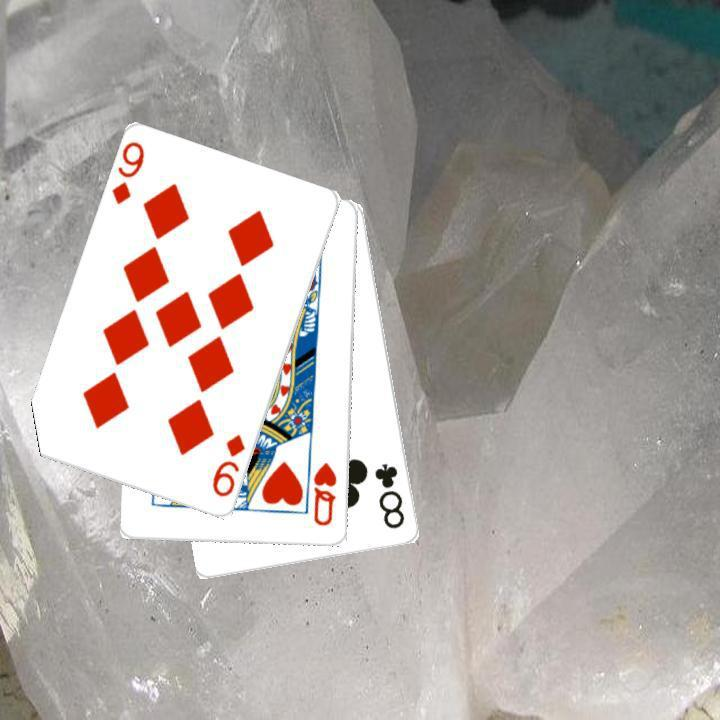8: (370, 459, 407, 531)
9: (208, 430, 248, 500), (107, 137, 147, 207)
Q: (309, 459, 340, 529)
